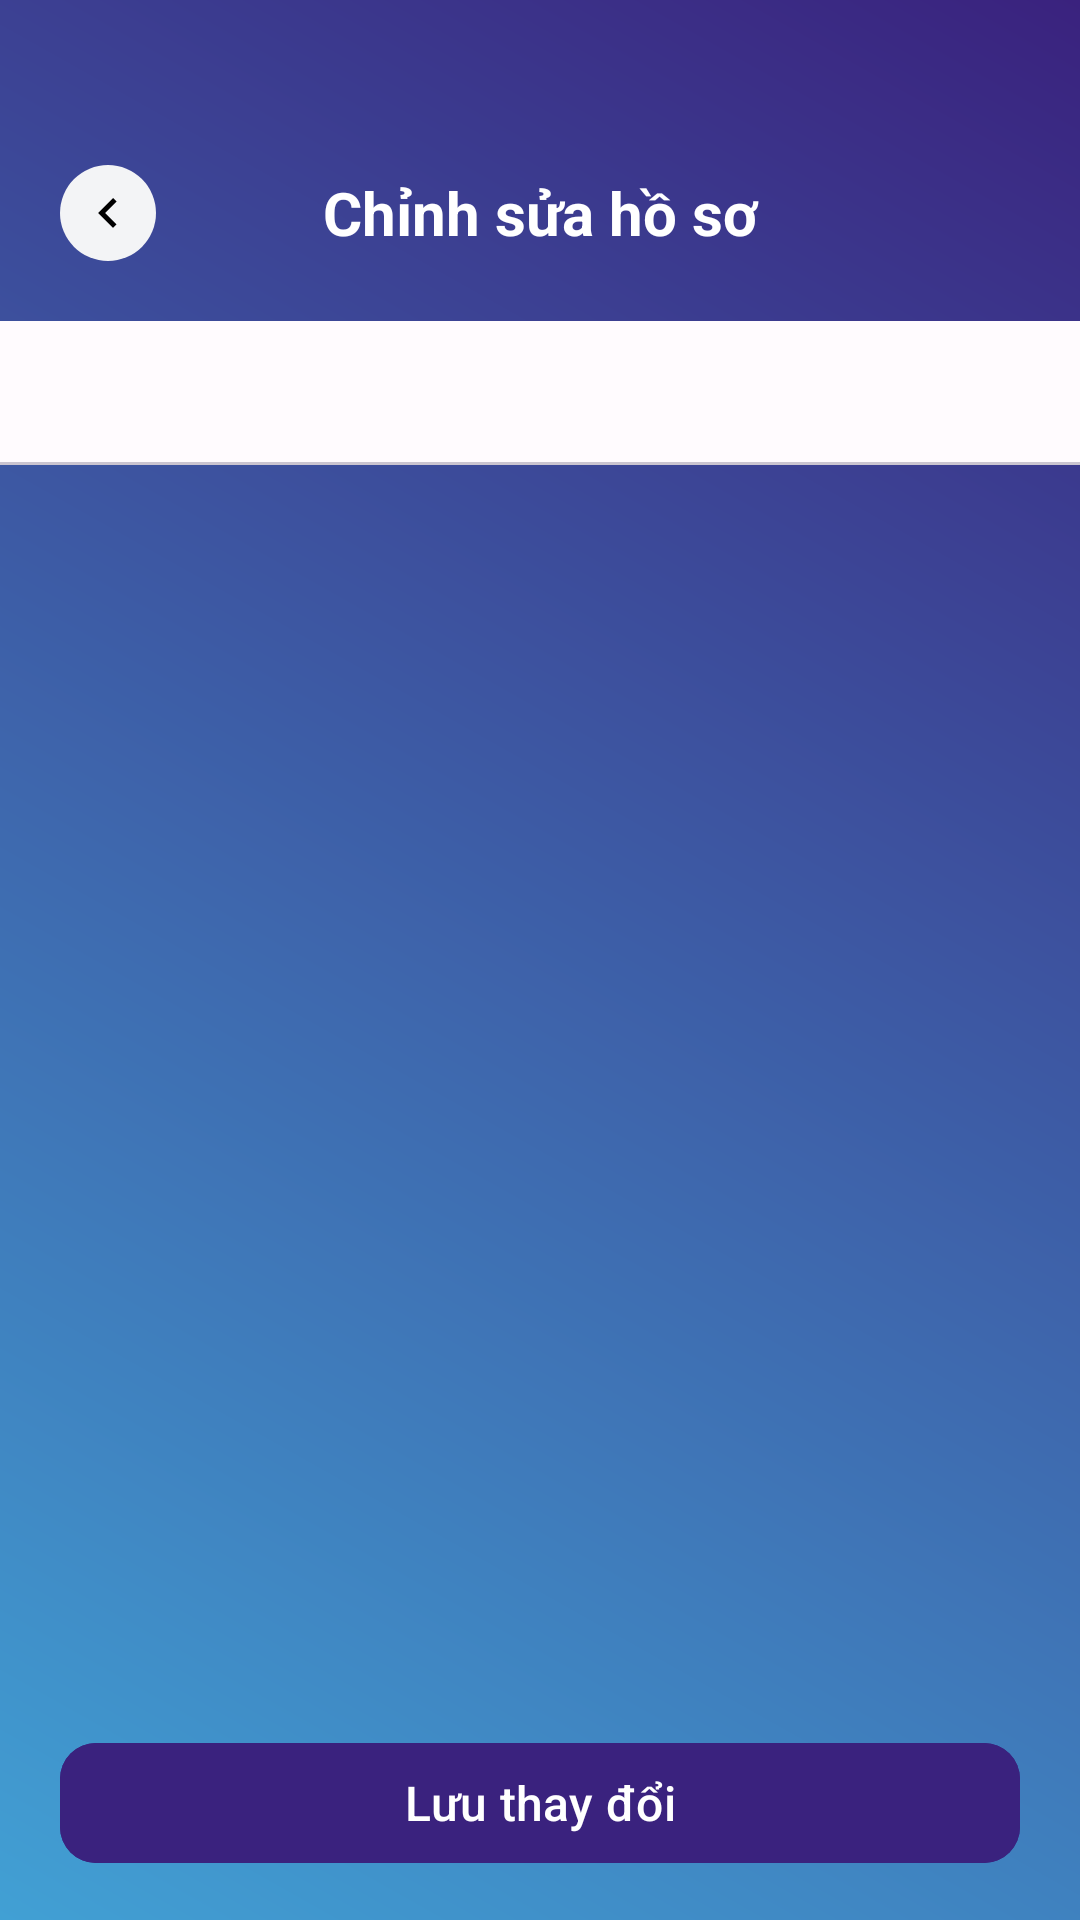

Locate icon controls on the screen. Image size 1080px×1920px, boxes as [left=x1, top=y1, right=x2, bottom=y2].
arrow left: [left=60, top=165, right=156, bottom=261]
